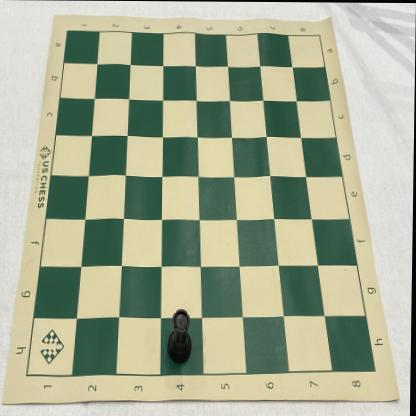black-rook: (167, 308, 194, 364)
